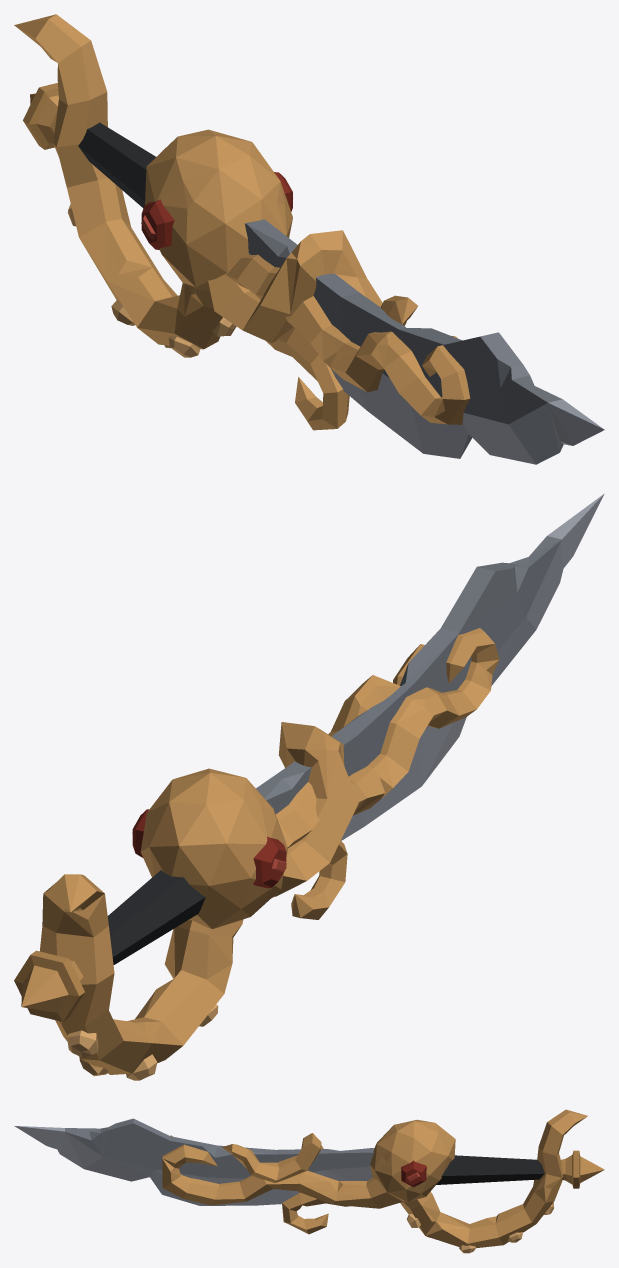
Rendered from SM_Wep_Sword_02.fbx.
3 views of the same model, one above another, from view 1: azimuth 30°, elevation 25°; view 2: azimuth 150°, elevation 25°; view 3: azimuth 270°, elevation 25° (orthographic). The views are drawn at different scales.
Parts seen in each view (by area): view 1: SM_Wep_Sword_02; view 2: SM_Wep_Sword_02; view 3: SM_Wep_Sword_02.
Boxes of the visible parts, x1,y1,x2,y2 form: SM_Wep_Sword_02: [14, 14, 604, 464]; SM_Wep_Sword_02: [14, 493, 604, 1080]; SM_Wep_Sword_02: [14, 1109, 604, 1253].
Size of the model in its own units: 19.32 by 34.43 by 136.
